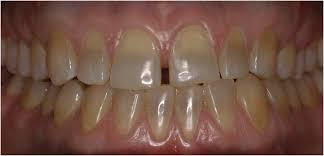normal: (5, 38, 19, 73), (17, 42, 29, 77), (9, 76, 24, 98), (1, 39, 9, 71), (313, 74, 324, 96)
yellow: (168, 25, 220, 84), (110, 31, 158, 90), (79, 29, 112, 91), (234, 74, 267, 133), (207, 81, 241, 136), (144, 88, 173, 146), (175, 85, 203, 145), (47, 33, 78, 85), (114, 87, 142, 141), (217, 32, 249, 79), (264, 79, 292, 122), (252, 33, 275, 81), (85, 87, 110, 130), (57, 82, 82, 122), (29, 39, 52, 81), (282, 85, 303, 114), (279, 43, 295, 81), (25, 80, 43, 112), (297, 77, 312, 108), (302, 43, 316, 73), (43, 86, 55, 120), (308, 70, 317, 109), (293, 51, 304, 82)
